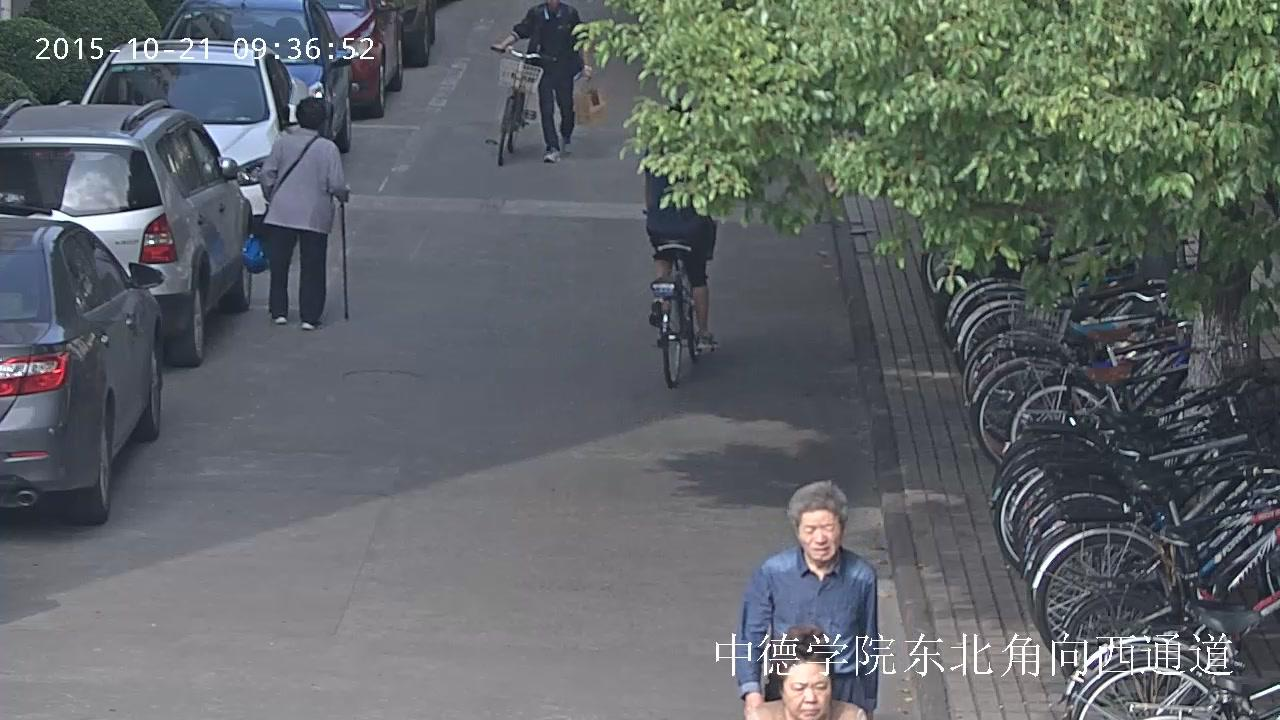person: (737, 482, 880, 717), (239, 95, 350, 330), (640, 94, 720, 386), (640, 96, 719, 340), (489, 0, 593, 166), (491, 0, 584, 163), (747, 626, 864, 720)
